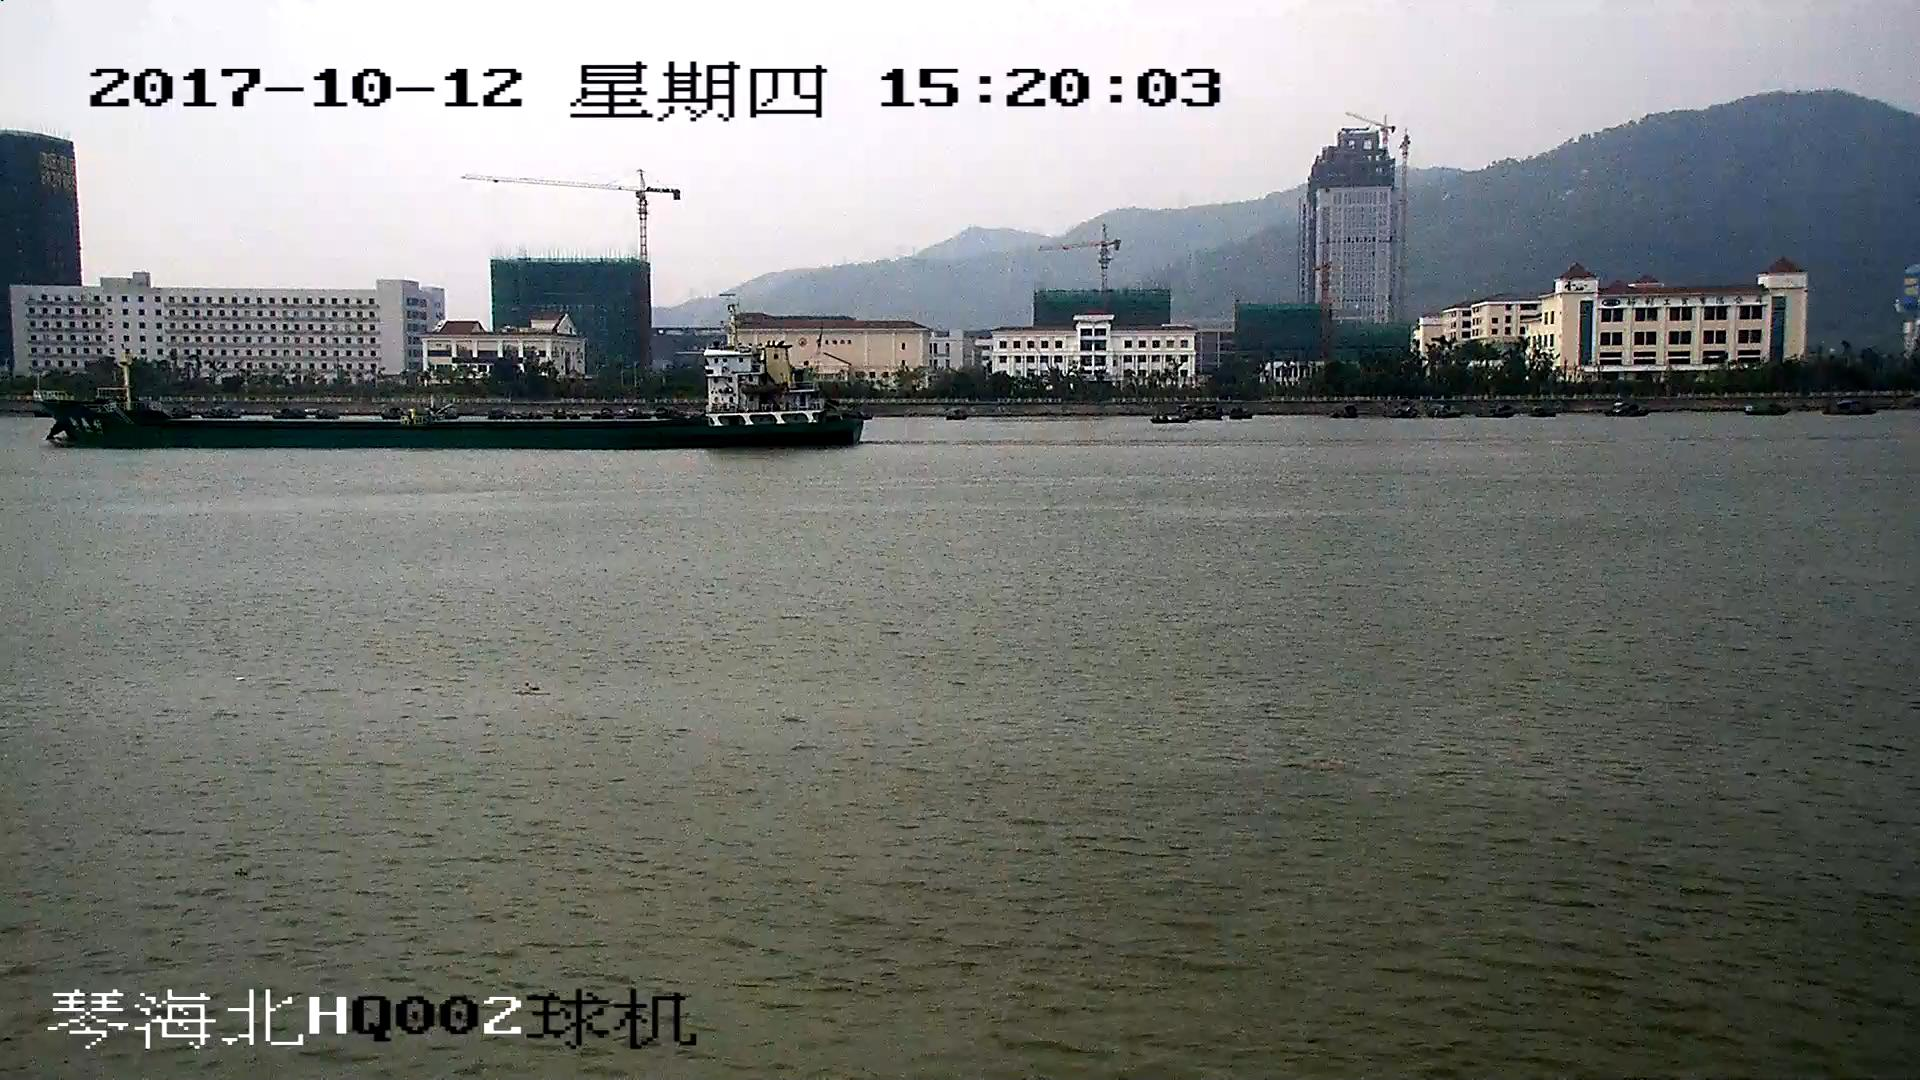general cargo ship: (45, 295, 865, 447)
